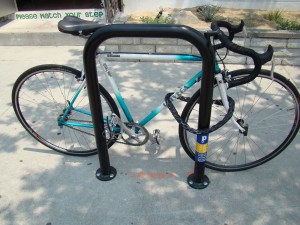Bicycle: (11, 16, 300, 177)
